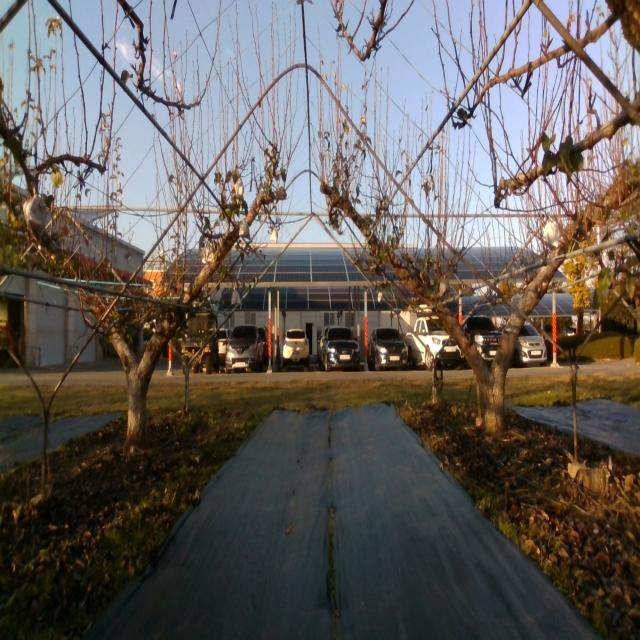pearbags: (23, 194, 47, 244), (545, 220, 559, 249), (239, 219, 251, 240), (233, 177, 244, 199), (204, 241, 215, 263)
